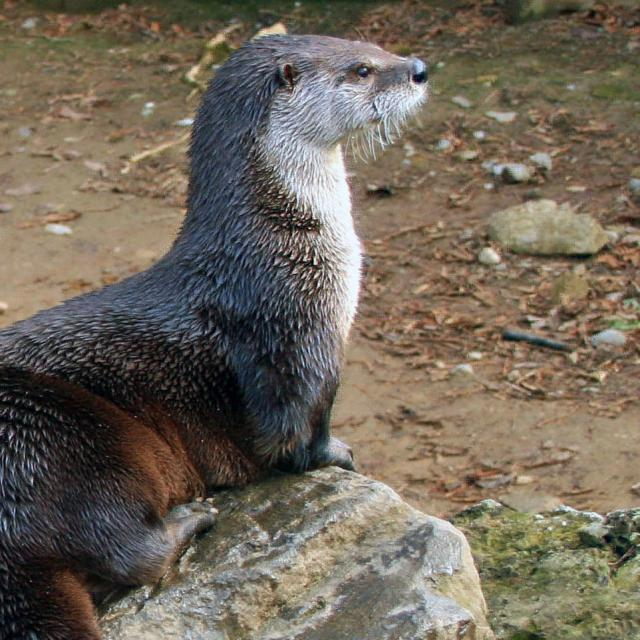otter: (1, 36, 428, 470)
